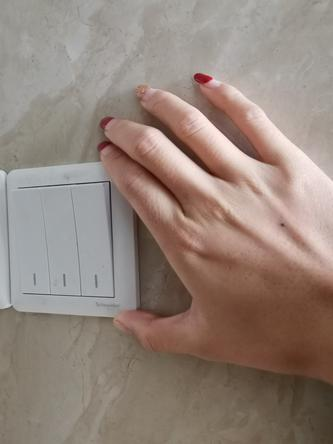switch: (71, 173, 118, 302), (35, 177, 83, 300), (8, 181, 53, 300)
